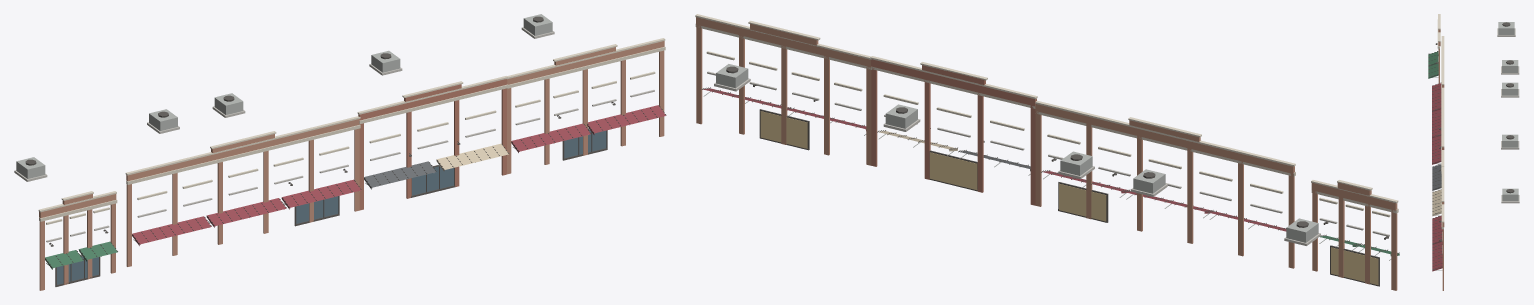
The model's file is north_storefronts_dressing.glb.
3 renders of one model, left to right at view 1: azimuth 30°, elevation 25°; view 2: azimuth 150°, elevation 25°; view 3: azimuth 270°, elevation 25°, orthographic. The views are drawn at different scales.
Visible parts, largest first — view 1: NorthStorefrontsDressing; view 2: NorthStorefrontsDressing; view 3: NorthStorefrontsDressing.
Part boxes in pixels (x1=…): NorthStorefrontsDressing: x1=14, y1=14, x2=666, y2=290; NorthStorefrontsDressing: x1=695, y1=14, x2=1399, y2=290; NorthStorefrontsDressing: x1=1428, y1=14, x2=1519, y2=290.
Size of the model in its own units: 62.28 by 9.79 by 10.93.
